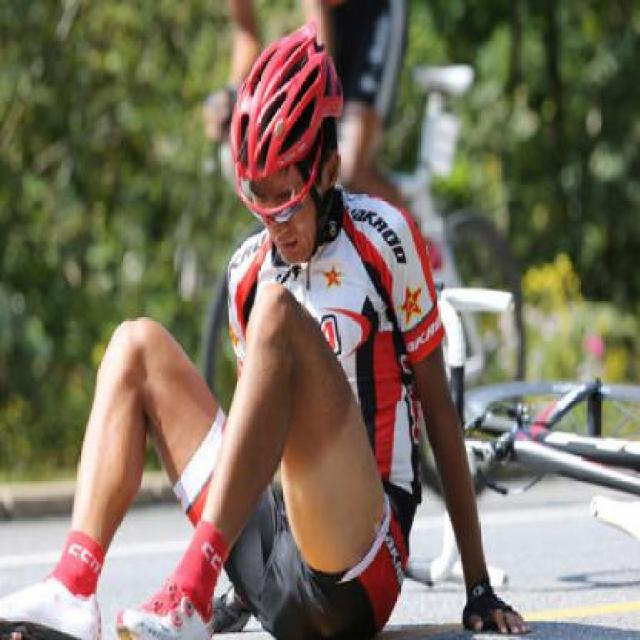fall: (0, 0, 512, 638)
